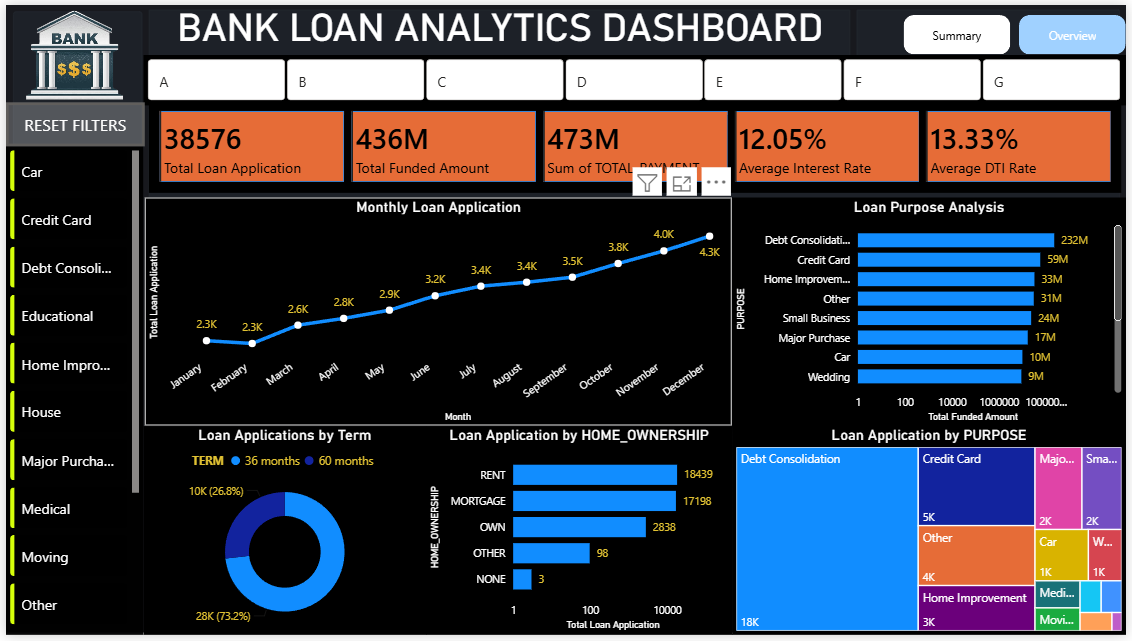

This screenshot's page, from the dashboard's own definition file:
{"tool":"powerbi","page":{"name":"Overview","canvas":[1280,720],"ordinal":1},"visuals":[{"type":"cardVisual","fields":{"Data":["financial_loan (2).Total Loan Application","financial_loan (2).Total Funded Amount","Sum(financial_loan (2).TOTAL_PAYMENT)","financial_loan (2).Average Interest Rate","financial_loan (2).Average DTI Rate"]},"box":[159.2,104.3,1121.1,115.3],"z":0},{"type":"image","box":[0,0,157.1,114.3],"z":1000},{"type":"advancedSlicerVisual","fields":{"Values":["financial_loan (2).PURPOSE"]},"box":[0,161.4,157.1,558.6],"z":2000},{"type":"advancedSlicerVisual","fields":{"Values":["financial_loan (2).GRADE"]},"box":[156.8,56.7,1123.2,57.9],"z":3000},{"type":"actionButton","box":[0,111.4,158.6,50],"z":4000},{"type":"textbox","title":"BANK LOAN ANALYTICS DASHBOARD","box":[156.7,0,815,56.7],"z":5000},{"type":"pageNavigator","box":[1025,11.7,255,45],"z":6000},{"type":"lineChart","title":"Monthly Loan Application","fields":{"Category":["financial_loan (2).ISSUE_DATE.Variation.Date Hierarchy.Month"],"Y":["financial_loan (2).Total Loan Application"]},"box":[158.3,220,671.7,261.7],"z":7000},{"type":"donutChart","title":"Loan Applications by Term","fields":{"Category":["financial_loan (2).TERM"],"Y":["financial_loan (2).Total Loan Application"]},"box":[156.7,481.7,323.3,238.3],"z":8000},{"type":"clusteredBarChart","title":"Loan Application by HOME_OWNERSHIP","fields":{"Category":["financial_loan (2).HOME_OWNERSHIP"],"Y":["financial_loan (2).Total Loan Application"]},"box":[480,481.7,350,238.3],"z":9000},{"type":"treemap","title":"Loan Application by PURPOSE","fields":{"Group":["financial_loan (2).PURPOSE"],"Values":["financial_loan (2).Total Loan Application"]},"box":[830.2,481.6,450.1,238.8],"z":10000},{"type":"barChart","title":"Loan Purpose Analysis","fields":{"Category":["financial_loan (2).PURPOSE"],"Y":["financial_loan (2).Total Funded Amount"]},"box":[830.2,219.6,450.1,262.1],"z":11000}]}

Visuals, with their boxes in screenshot pixels (x1, y1, x2, y2), scaled from the page's 1280x720 canvas onto the 1132x641 screenshot:
cardVisual - financial_loan (2).Total Loan Application x financial_loan (2).Total Funded Amount: locate(141, 93, 1131, 196)
image: locate(0, 0, 139, 102)
advancedSlicerVisual - financial_loan (2).PURPOSE: locate(0, 144, 139, 640)
advancedSlicerVisual - financial_loan (2).GRADE: locate(139, 50, 1131, 102)
actionButton: locate(0, 99, 140, 144)
"BANK LOAN ANALYTICS DASHBOARD" textbox: locate(139, 0, 859, 50)
pageNavigator: locate(906, 10, 1131, 50)
"Monthly Loan Application" lineChart: locate(140, 196, 734, 429)
"Loan Applications by Term" donutChart: locate(139, 429, 424, 640)
"Loan Application by HOME_OWNERSHIP" clusteredBarChart: locate(424, 429, 734, 640)
"Loan Application by PURPOSE" treemap: locate(734, 429, 1131, 640)
"Loan Purpose Analysis" barChart: locate(734, 196, 1131, 429)
